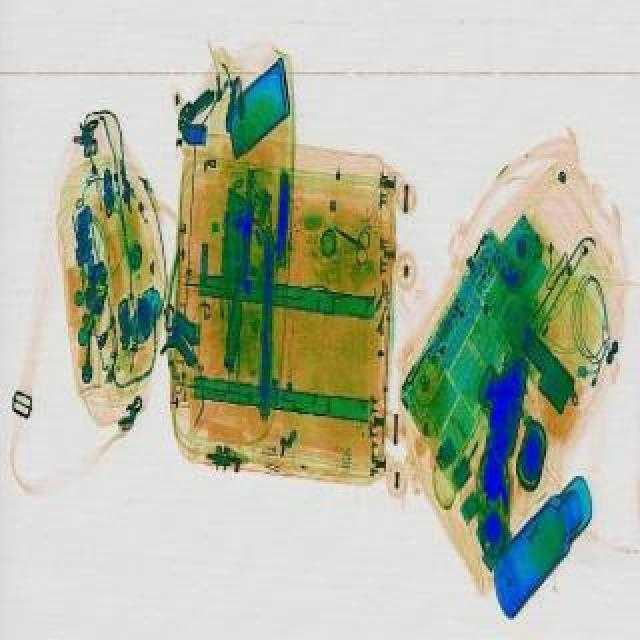pliers: (326, 214, 384, 262)
